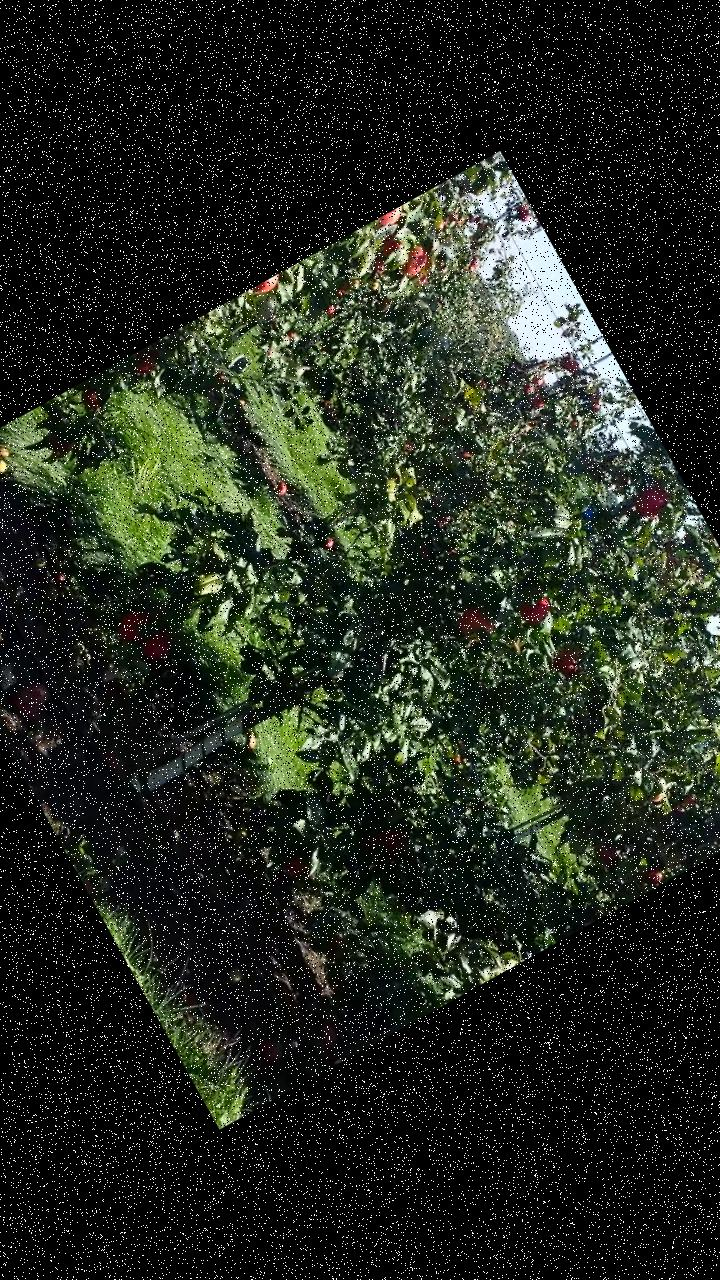Apple: (453, 602, 499, 648), (630, 482, 674, 524), (113, 606, 156, 648), (394, 243, 433, 280), (378, 820, 414, 859), (518, 592, 556, 628), (138, 630, 174, 666), (46, 426, 80, 460), (550, 647, 582, 681), (130, 348, 162, 378), (282, 854, 312, 883), (252, 274, 284, 300), (360, 830, 388, 859), (78, 384, 104, 414), (594, 838, 621, 866), (377, 207, 407, 231), (377, 232, 404, 258), (643, 790, 668, 810)
